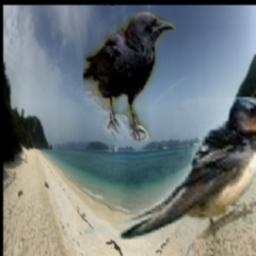Crow: (82, 12, 175, 141)
Swallow: (83, 98, 256, 240)
